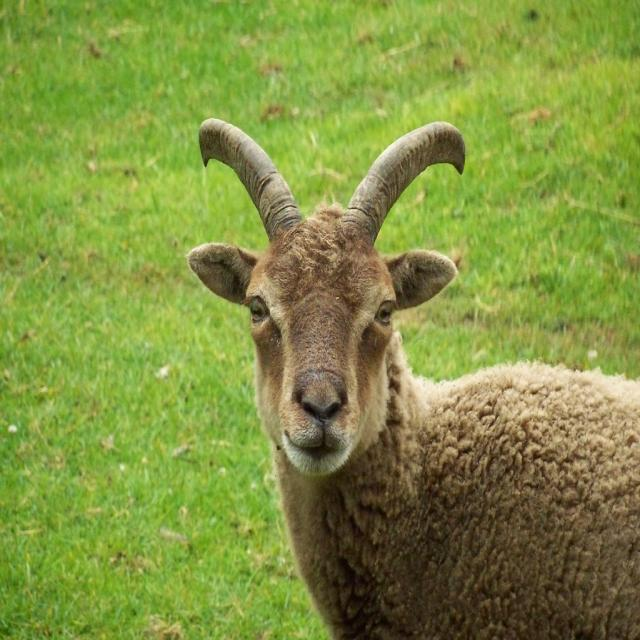Sheep: (185, 117, 640, 639)
